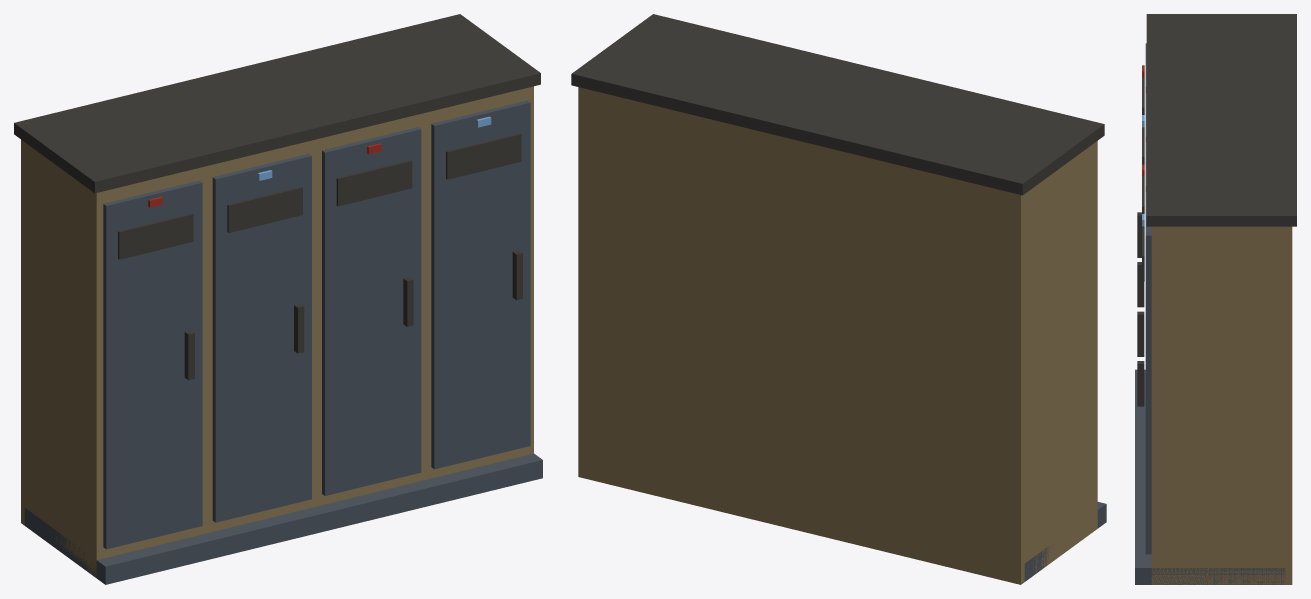
The model's file is separatist_locker.glb.
The picture shows the model from 3 angles, left to right: view 1: azimuth 30°, elevation 25°; view 2: azimuth 150°, elevation 25°; view 3: azimuth 270°, elevation 25°; orthographic projection. The views are drawn at different scales.
Visible parts, largest first — view 1: separatist_locker; view 2: separatist_locker; view 3: separatist_locker.
Part boxes in pixels (x1,y1,x2,y2): separatist_locker: [14, 14, 542, 584]; separatist_locker: [571, 14, 1106, 584]; separatist_locker: [1135, 14, 1296, 584].
Bounding box in the file's own units: 2.04 × 1.75 × 0.69.
